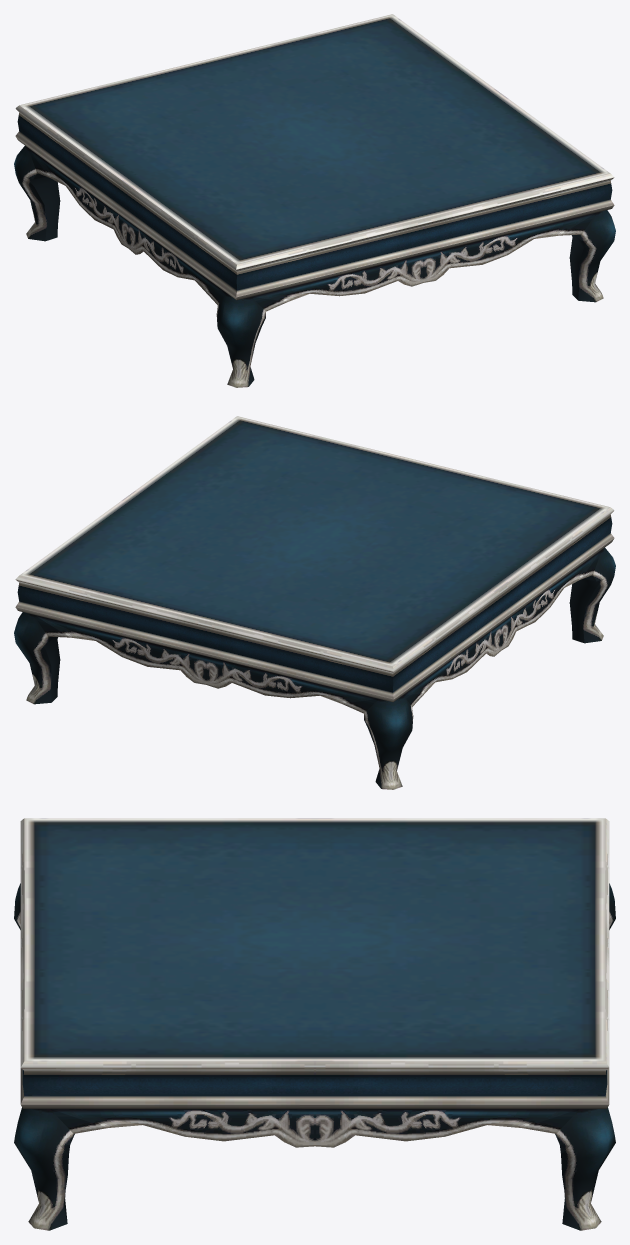
The model's file is furni_0201105_03.FBX.
3 views of the same model, one above another, from view 1: azimuth 30°, elevation 25°; view 2: azimuth 150°, elevation 25°; view 3: azimuth 270°, elevation 25° (orthographic). The views are drawn at different scales.
Parts seen in each view (by area): view 1: furni_0201105_03; view 2: furni_0201105_03; view 3: furni_0201105_03.
Boxes of the visible parts, box(x1,y1,x2,y2) form: furni_0201105_03: box(14, 14, 615, 387); furni_0201105_03: box(14, 416, 615, 789); furni_0201105_03: box(14, 818, 615, 1230).
Size of the model in its own units: 163 by 50.02 by 161.
1 material, 1 textured.
